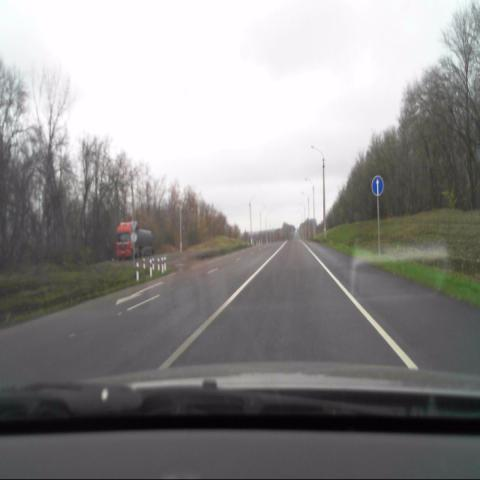4_1_1: (370, 175, 384, 197)
